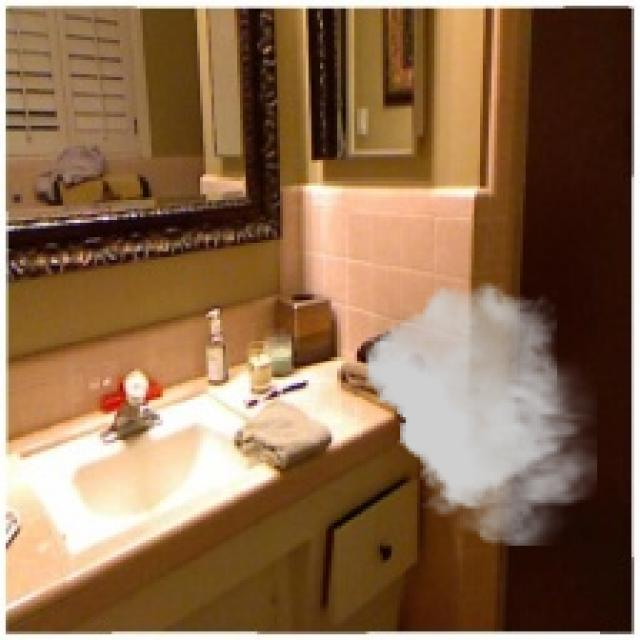smoke: (366, 283, 597, 546)
